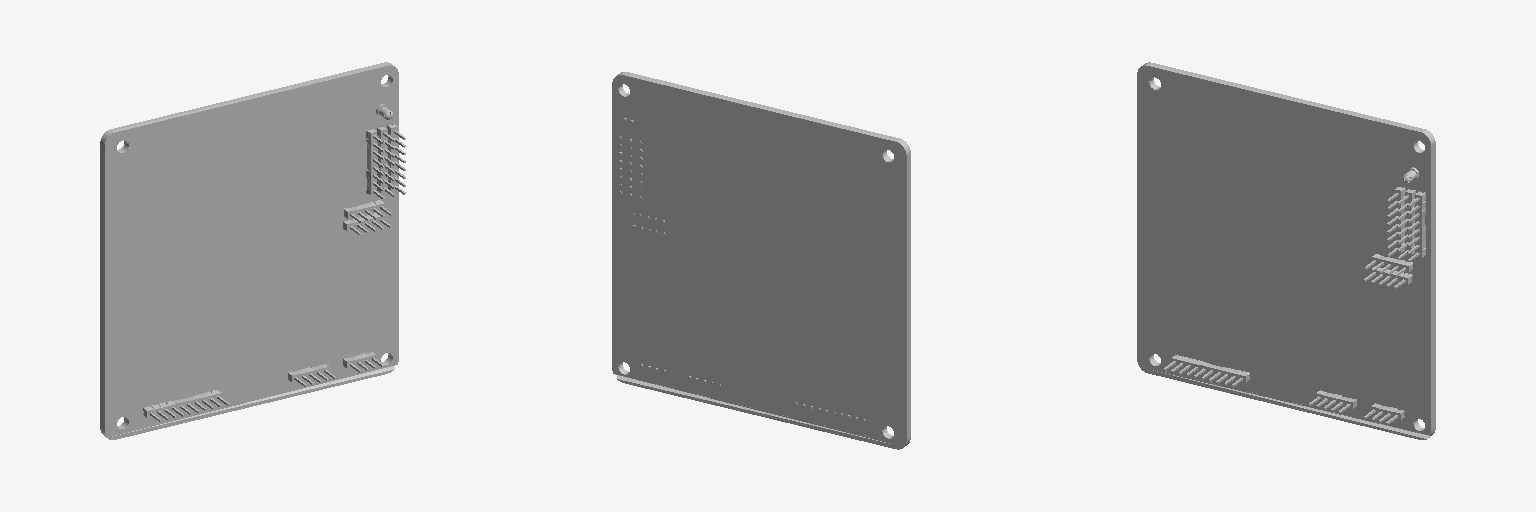
The model's file is OBJ_PCB_AIRPURE.obj.
The picture shows the model from 3 angles: view 1: azimuth 30°, elevation 25°; view 2: azimuth 150°, elevation 25°; view 3: azimuth 330°, elevation 25°; orthographic projection.
Bounding box in the file's own units: 392 × 392 × 47.14.